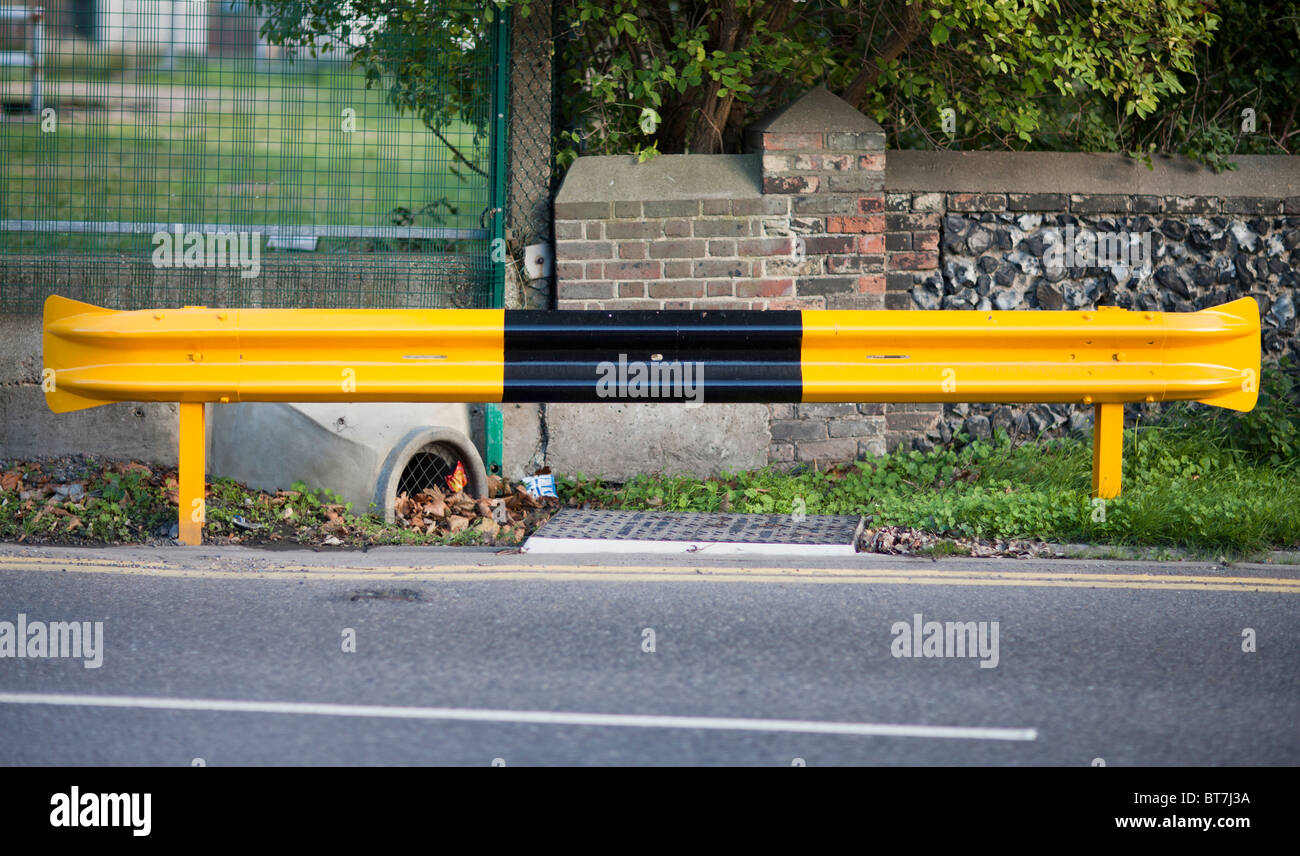not_damaged: (139, 288, 1204, 452)
